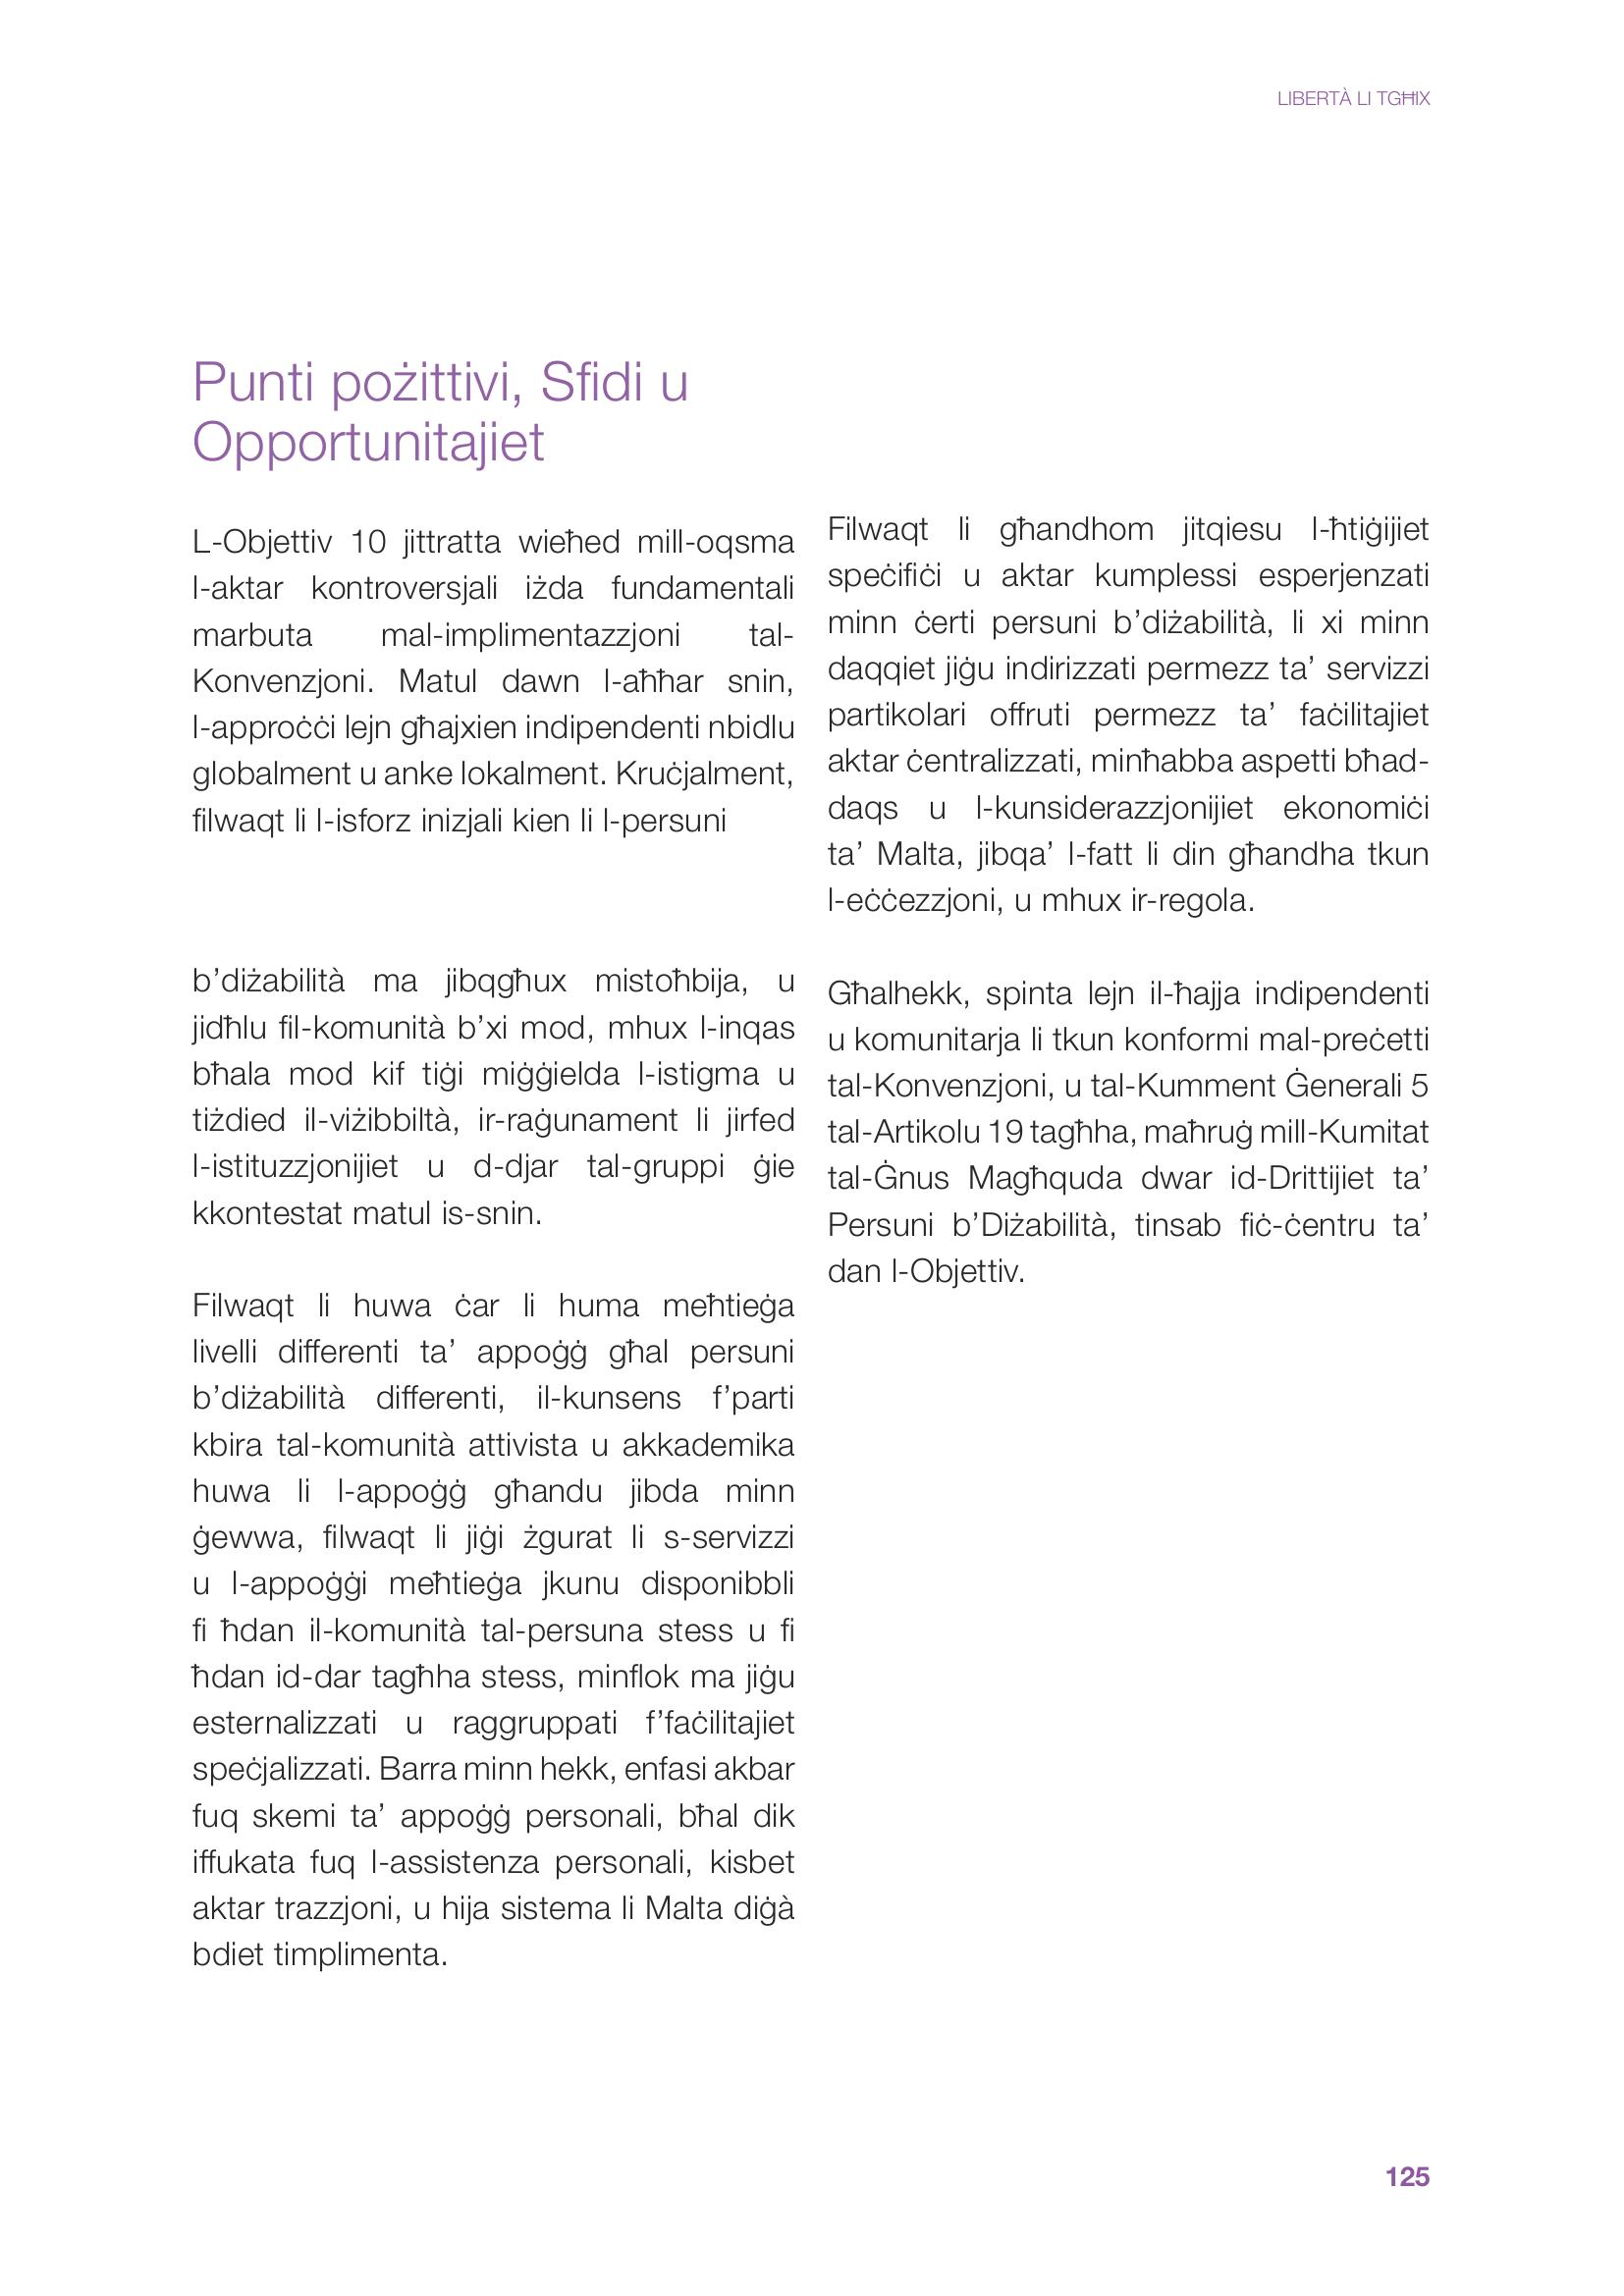text: (153, 334, 814, 1990), (816, 501, 1454, 1307)
